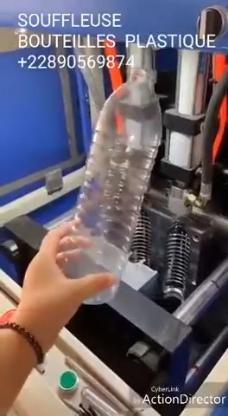Plastic Bottle: (66, 68, 162, 304)
